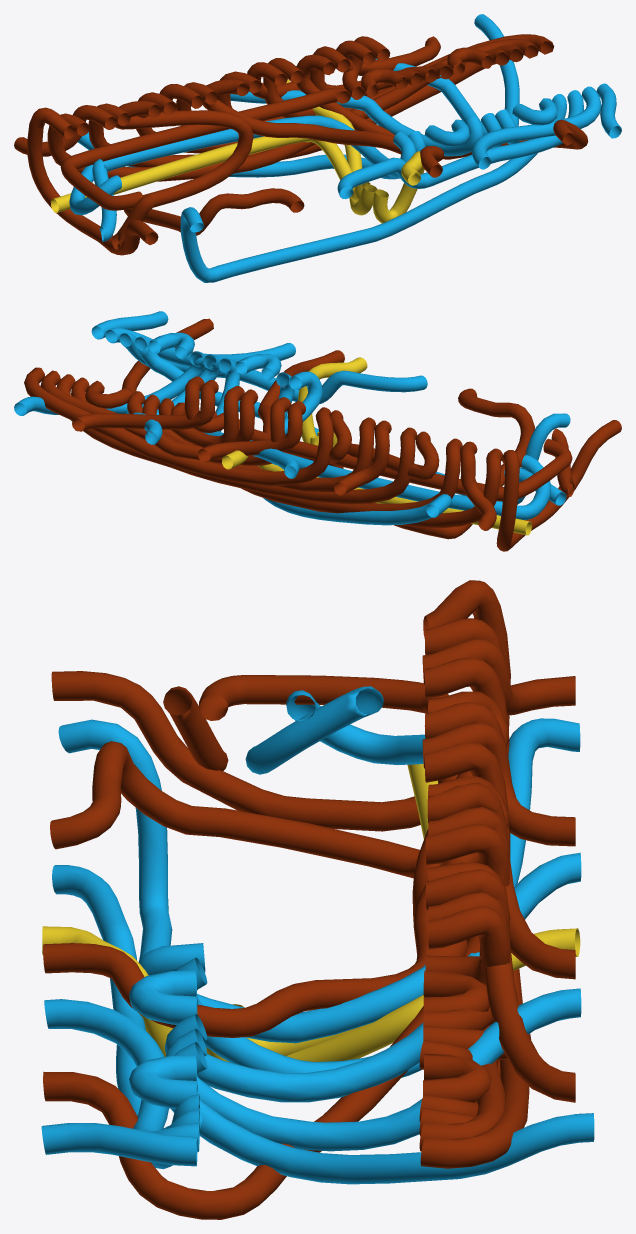
File: wire.glb
3 renders of one model, top to bottom at view 1: azimuth 30°, elevation 25°; view 2: azimuth 150°, elevation 25°; view 3: azimuth 270°, elevation 25°, orthographic. The views are drawn at different scales.
Visible parts, largest first — view 1: BézierCurve.022, BézierCurve.028, BézierCurve, BézierCurve.003, BézierCurve.026, BézierCurve.030, BézierCurve.017, BézierCurve.016, BézierCurve.021, BézierCurve.015, BézierCurve.024, BézierCurve.020 (+23 smaller); view 2: BézierCurve.012, BézierCurve.014, BézierCurve.028, BézierCurve.003, BézierCurve.030, BézierCurve, BézierCurve.021, BézierCurve.015, BézierCurve.034, BézierCurve.013, BézierCurve.007, BézierCurve.016 (+22 smaller); view 3: BézierCurve.028, BézierCurve.030, BézierCurve.031, BézierCurve.024, BézierCurve.026, BézierCurve.033, BézierCurve.003, BézierCurve.032, BézierCurve.022, BézierCurve.034, BézierCurve, BézierCurve.012 (+23 smaller).
Boxes of the visible parts, box(x1,y1,x2,y2) form: BézierCurve.022: box(180, 94, 566, 282); BézierCurve.028: box(115, 100, 304, 235); BézierCurve: box(60, 87, 350, 210); BézierCurve.003: box(69, 115, 415, 215); BézierCurve.026: box(202, 79, 443, 177); BézierCurve.030: box(27, 107, 158, 255); BézierCurve.017: box(50, 136, 370, 212); BézierCurve.016: box(47, 63, 453, 181); BézierCurve.021: box(337, 90, 583, 199); BézierCurve.015: box(88, 49, 509, 167); BézierCurve.024: box(296, 54, 588, 159); BézierCurve.020: box(472, 86, 601, 169); BézierCurve.012: box(24, 367, 333, 486); BézierCurve.014: box(56, 374, 417, 504); BézierCurve.028: box(328, 388, 534, 539); BézierCurve.003: box(272, 371, 550, 519); BézierCurve.030: box(496, 420, 621, 551); BézierCurve: box(238, 419, 572, 501); BézierCurve.021: box(119, 332, 427, 403); BézierCurve.015: box(71, 377, 462, 513); BézierCurve.034: box(257, 372, 451, 525); BézierCurve.013: box(40, 370, 376, 491); BézierCurve.007: box(72, 380, 218, 431); BézierCurve.016: box(127, 391, 502, 527); BézierCurve.028: box(50, 691, 508, 929); BézierCurve.030: box(51, 580, 510, 831); BézierCurve.031: box(171, 1042, 594, 1184); BézierCurve.024: box(43, 862, 503, 1219); BézierCurve.026: box(43, 776, 508, 1037); BézierCurve.033: box(164, 852, 581, 1102); BézierCurve.003: box(139, 690, 425, 1043); BézierCurve.032: box(166, 988, 581, 1151); BézierCurve.022: box(58, 719, 202, 1129); BézierCurve.034: box(177, 718, 580, 1077); BézierCurve: box(199, 675, 466, 956); BézierCurve.012: box(420, 782, 529, 1168).
Bounding box in the file's own units: 0.1973 × 0.0507 × 0.094.
